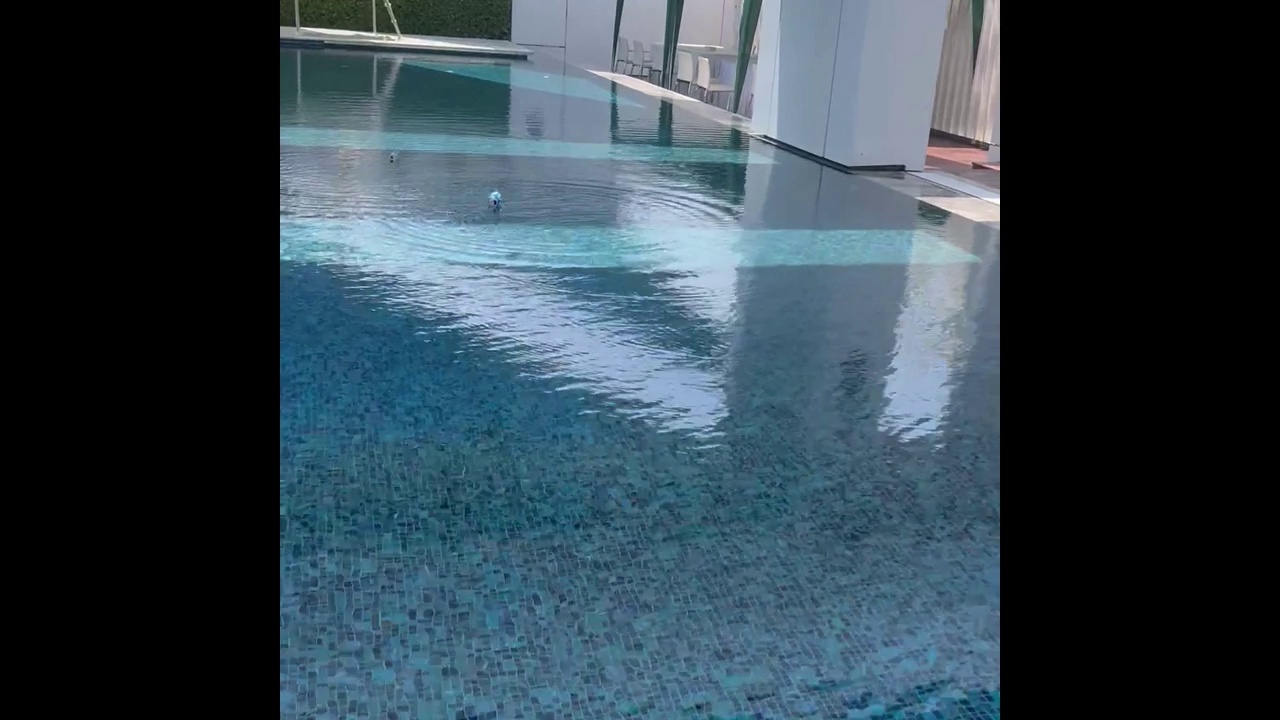debris: (484, 188, 505, 210), (387, 149, 402, 163)
